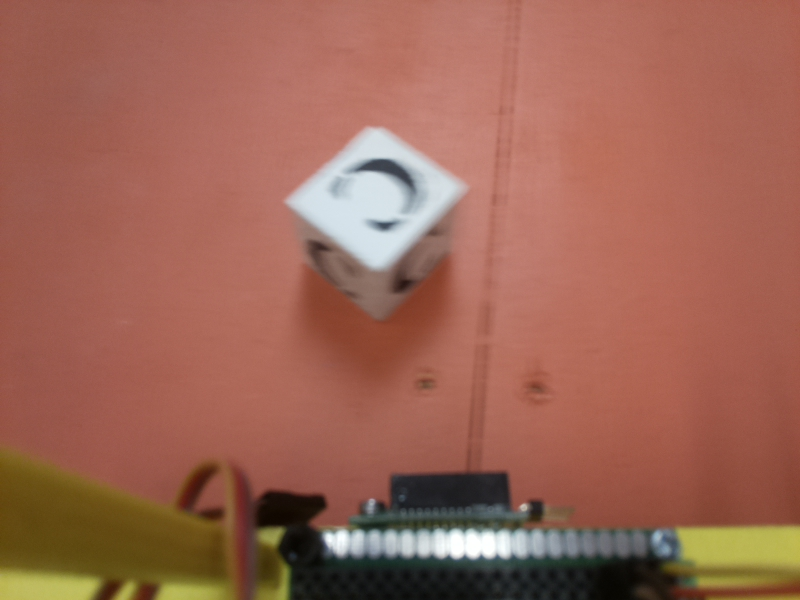blockC: (283, 128, 467, 330)
